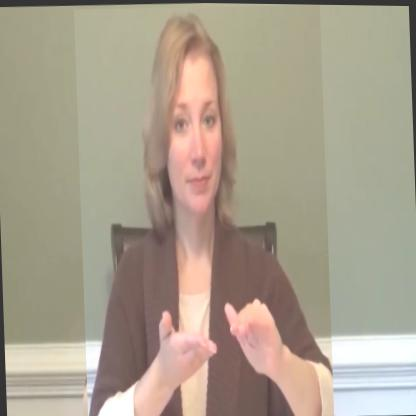ExcuseMe: (74, 1, 334, 416)
